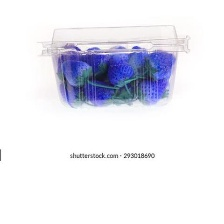plastic_box: (29, 13, 197, 115)
